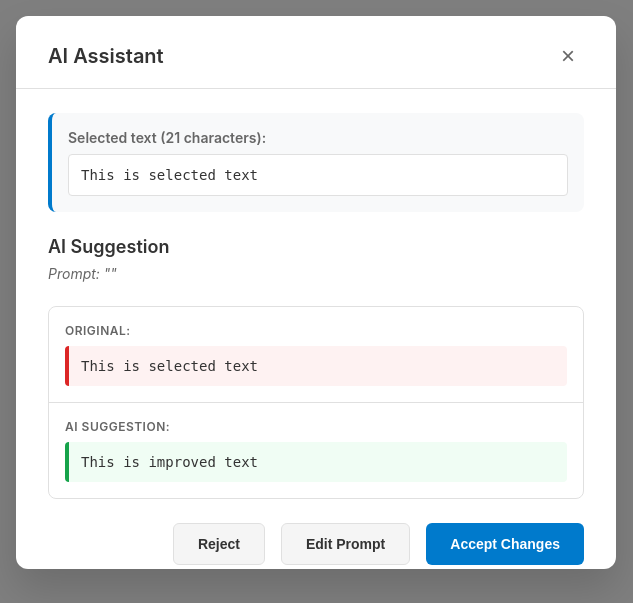
Test: AIPromptInterface › AI Result Preview › should allow editing prompt from preview
What coordinates should you click on to do the following:
click the button "Edit Prompt"
I would click on:
 (346, 544)
Its box is [281, 522, 410, 564].
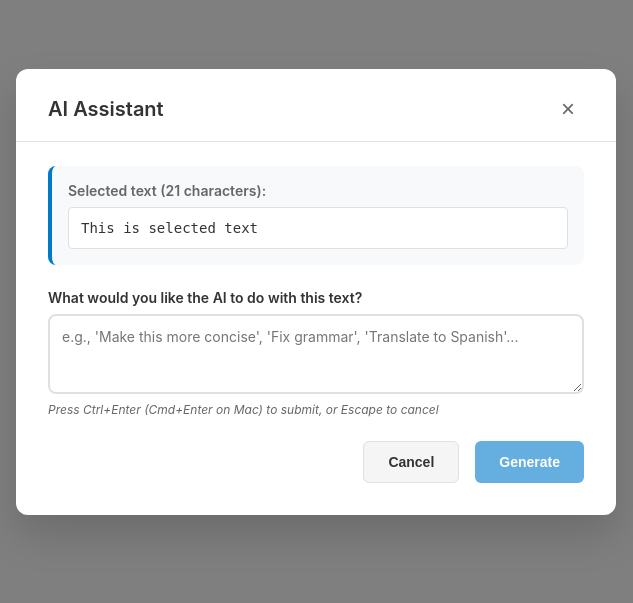
Expected: the text box labelled "What would you like the AI to do with this text?" is shown, [48, 314, 584, 394]
